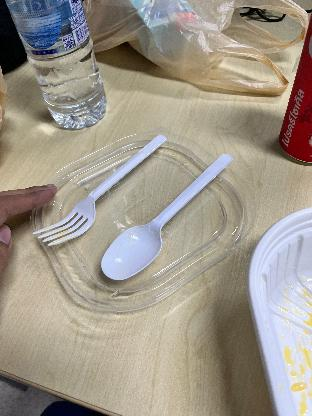Others: (96, 146, 238, 284), (30, 132, 166, 250)
Plastic Bottle: (5, 0, 110, 130)
